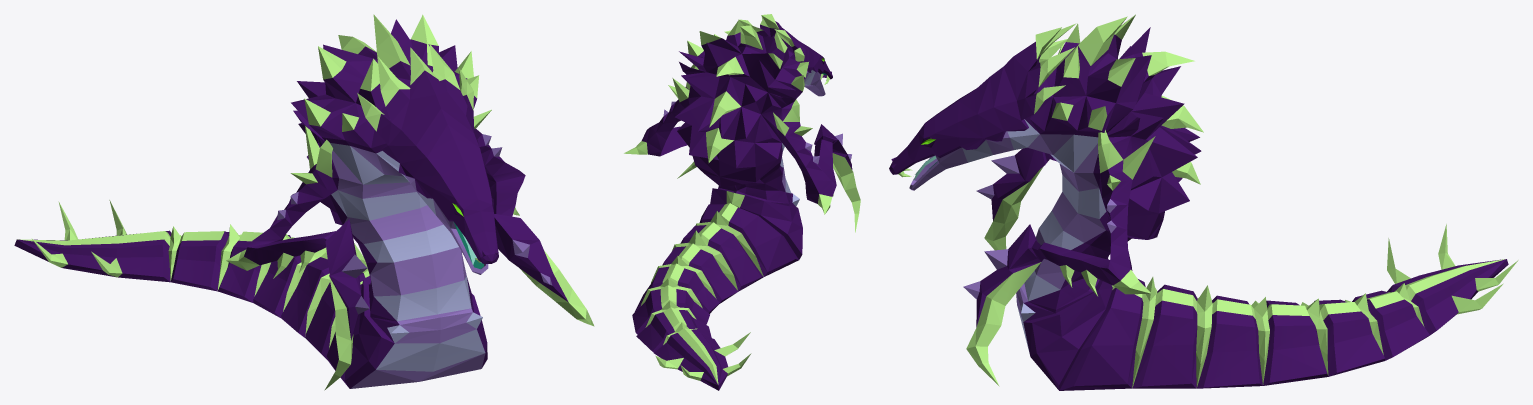
The model's file is Walk (11).obj.
3 renders of one model, left to right at view 1: azimuth 30°, elevation 25°; view 2: azimuth 150°, elevation 25°; view 3: azimuth 270°, elevation 25°, orthographic. The views are drawn at different scales.
Visible parts, largest first — view 1: Alien_Serpent; view 2: Alien_Serpent; view 3: Alien_Serpent.
Part boxes in pixels (<box>): Alien_Serpent: <box>14,14,594,390</box>; Alien_Serpent: <box>624,14,860,390</box>; Alien_Serpent: <box>889,14,1518,390</box>.
Bounding box in the file's own units: 218 × 216 × 363.
Materials: 1 (1 with a texture image).
